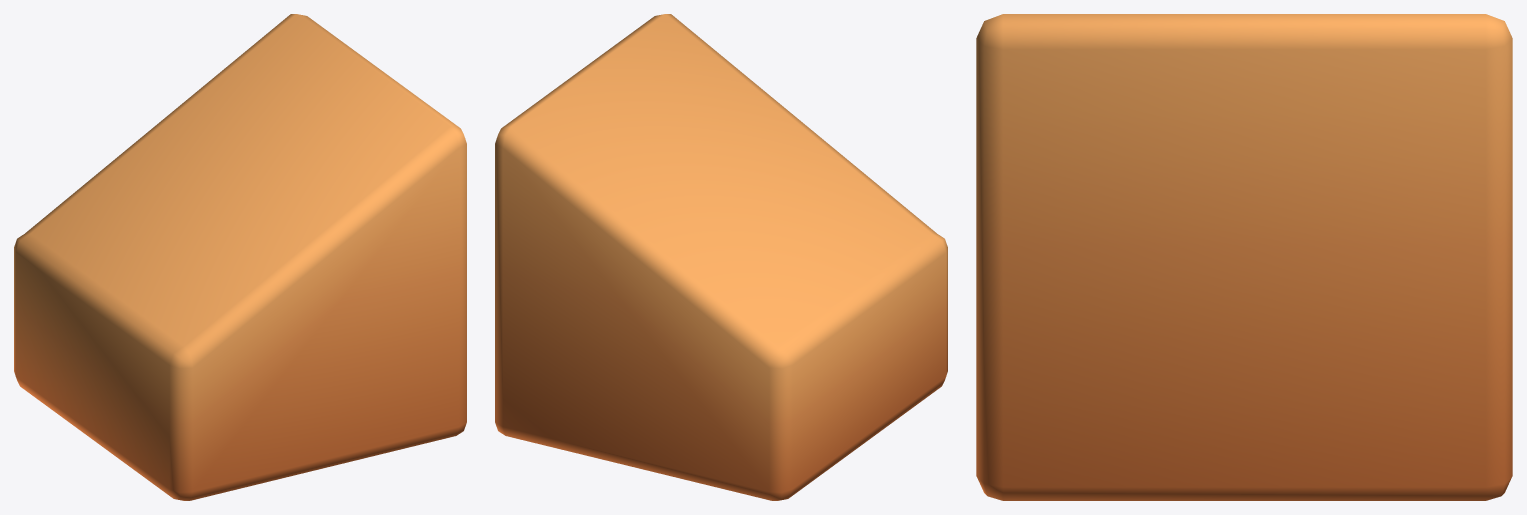
Rendered from 3D_Tile_Ground_Slope_02A.fbx.
3 renders of one model, left to right at view 1: azimuth 30°, elevation 25°; view 2: azimuth 150°, elevation 25°; view 3: azimuth 270°, elevation 25°, orthographic. The views are drawn at different scales.
Visible parts, largest first — view 1: 3D_Tile_Ground_Slope_02A; view 2: 3D_Tile_Ground_Slope_02A; view 3: 3D_Tile_Ground_Slope_02A.
Boxes of the visible parts, bbox=[...] form: 3D_Tile_Ground_Slope_02A: bbox=[14, 14, 466, 500]; 3D_Tile_Ground_Slope_02A: bbox=[495, 14, 947, 500]; 3D_Tile_Ground_Slope_02A: bbox=[976, 14, 1512, 500].
Size of the model in its own units: 200 by 200 by 200.
